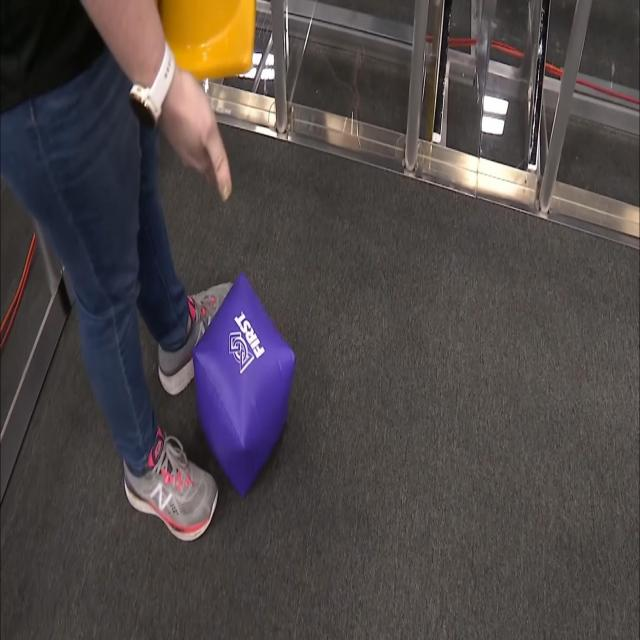frc_cone: (141, 0, 257, 92)
frc_cube: (189, 274, 298, 496)
